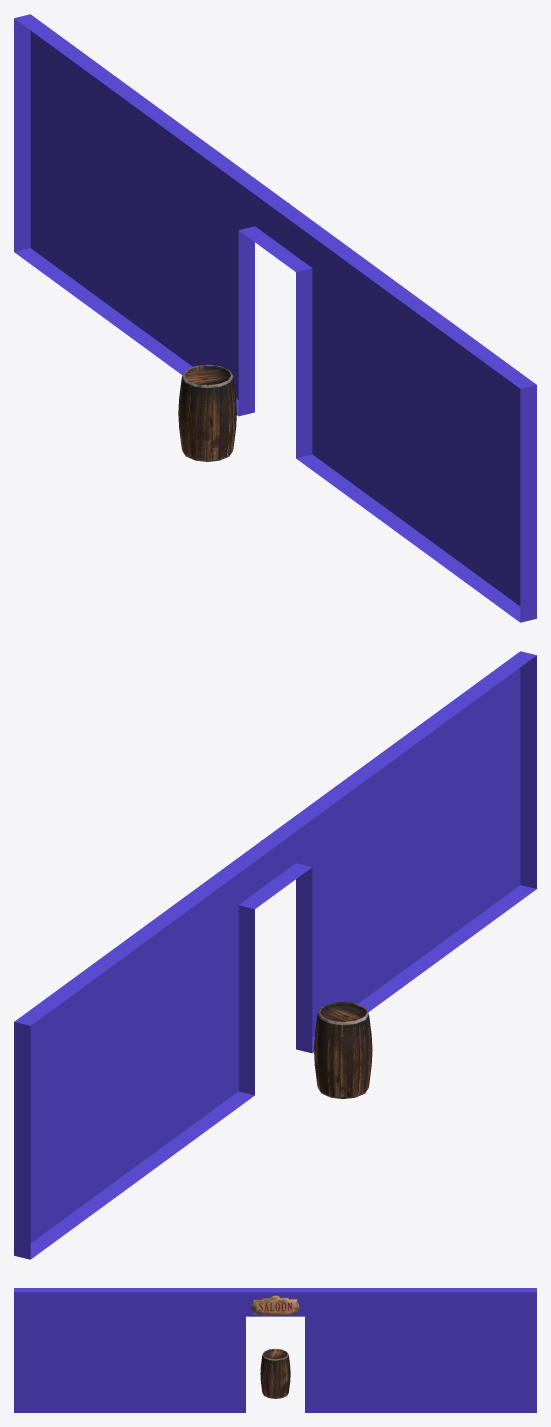
Rendered from GroupAssignment.fbx.
The picture shows the model from 3 angles, top to bottom: view 1: azimuth 30°, elevation 25°; view 2: azimuth 150°, elevation 25°; view 3: azimuth 270°, elevation 25°; orthographic projection. The views are drawn at different scales.
Parts seen in each view (by area): view 1: M_Wall, M_Barrel; view 2: M_Wall, M_Barrel; view 3: M_Wall, M_Barrel, M_Sign.
Boxes of the visible parts, x1,y1,x2,y2 form: M_Wall: (14,14,536,622); M_Barrel: (178,364,236,461); M_Wall: (14,651,536,1259); M_Barrel: (314,1001,372,1098); M_Wall: (14,1288,536,1412); M_Barrel: (260,1348,290,1398); M_Sign: (251,1295,299,1315).
Bounding box in the file's own units: 130 × 270 × 1060.
